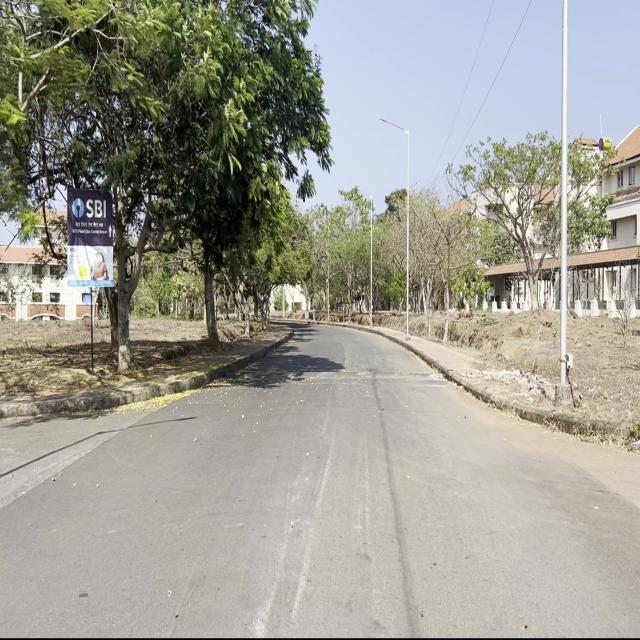Road: (2, 321, 636, 632)
